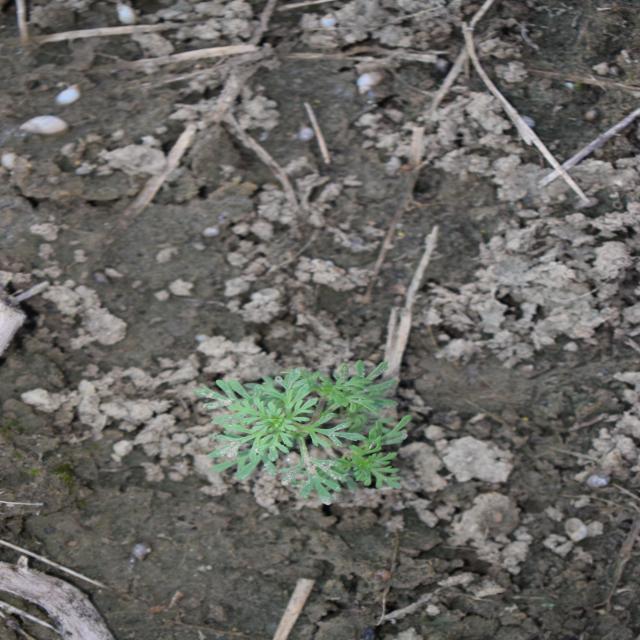Ragweed: (192, 359, 416, 507)
